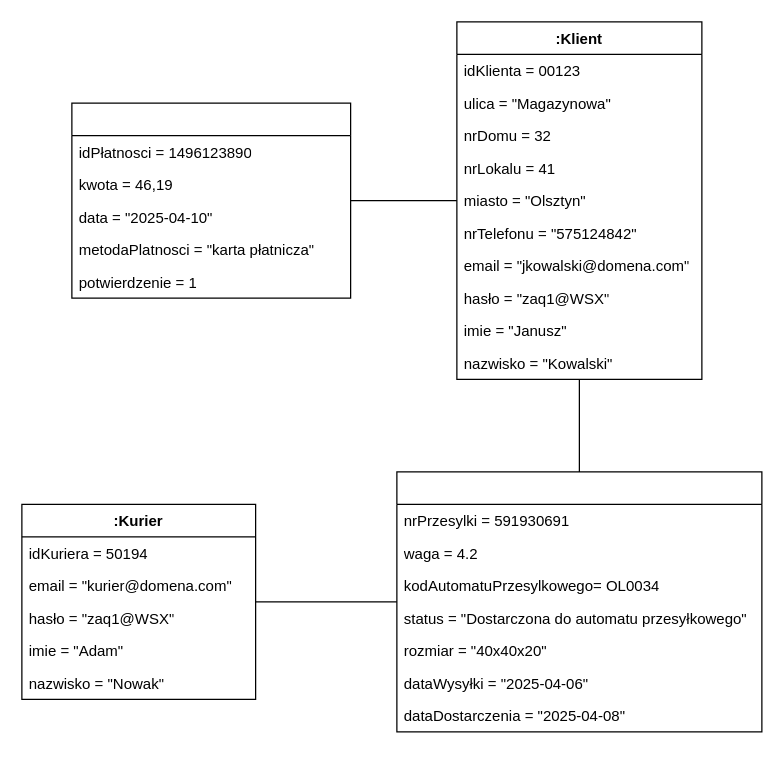
The diagram is 784 pixels wide and 758 high, and some of its shapes have lost their labels. Each missing label, with the box of its shape:
:Przesylka: (396, 471, 762, 732)
:Płatność: (71, 102, 351, 298)
